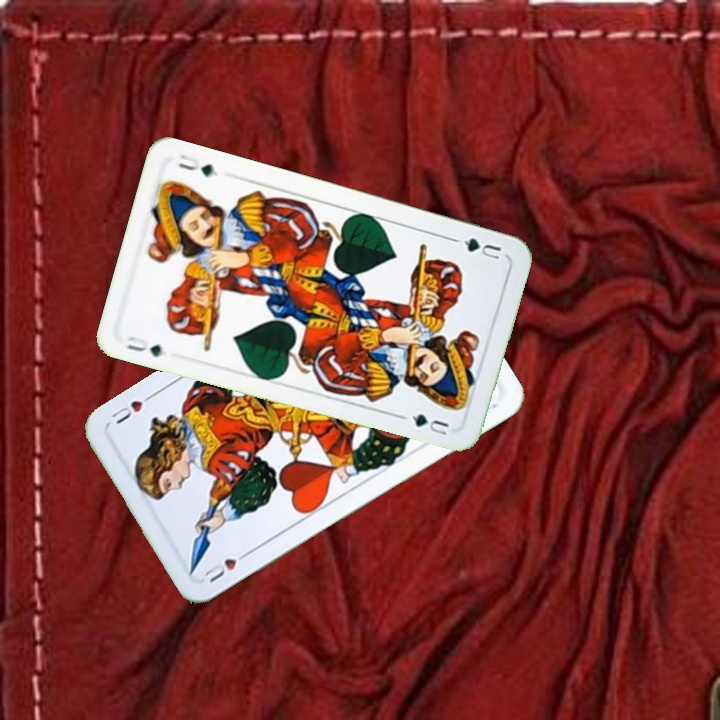GU: (459, 233, 504, 262), (122, 332, 169, 359)
HU: (198, 546, 254, 585)
